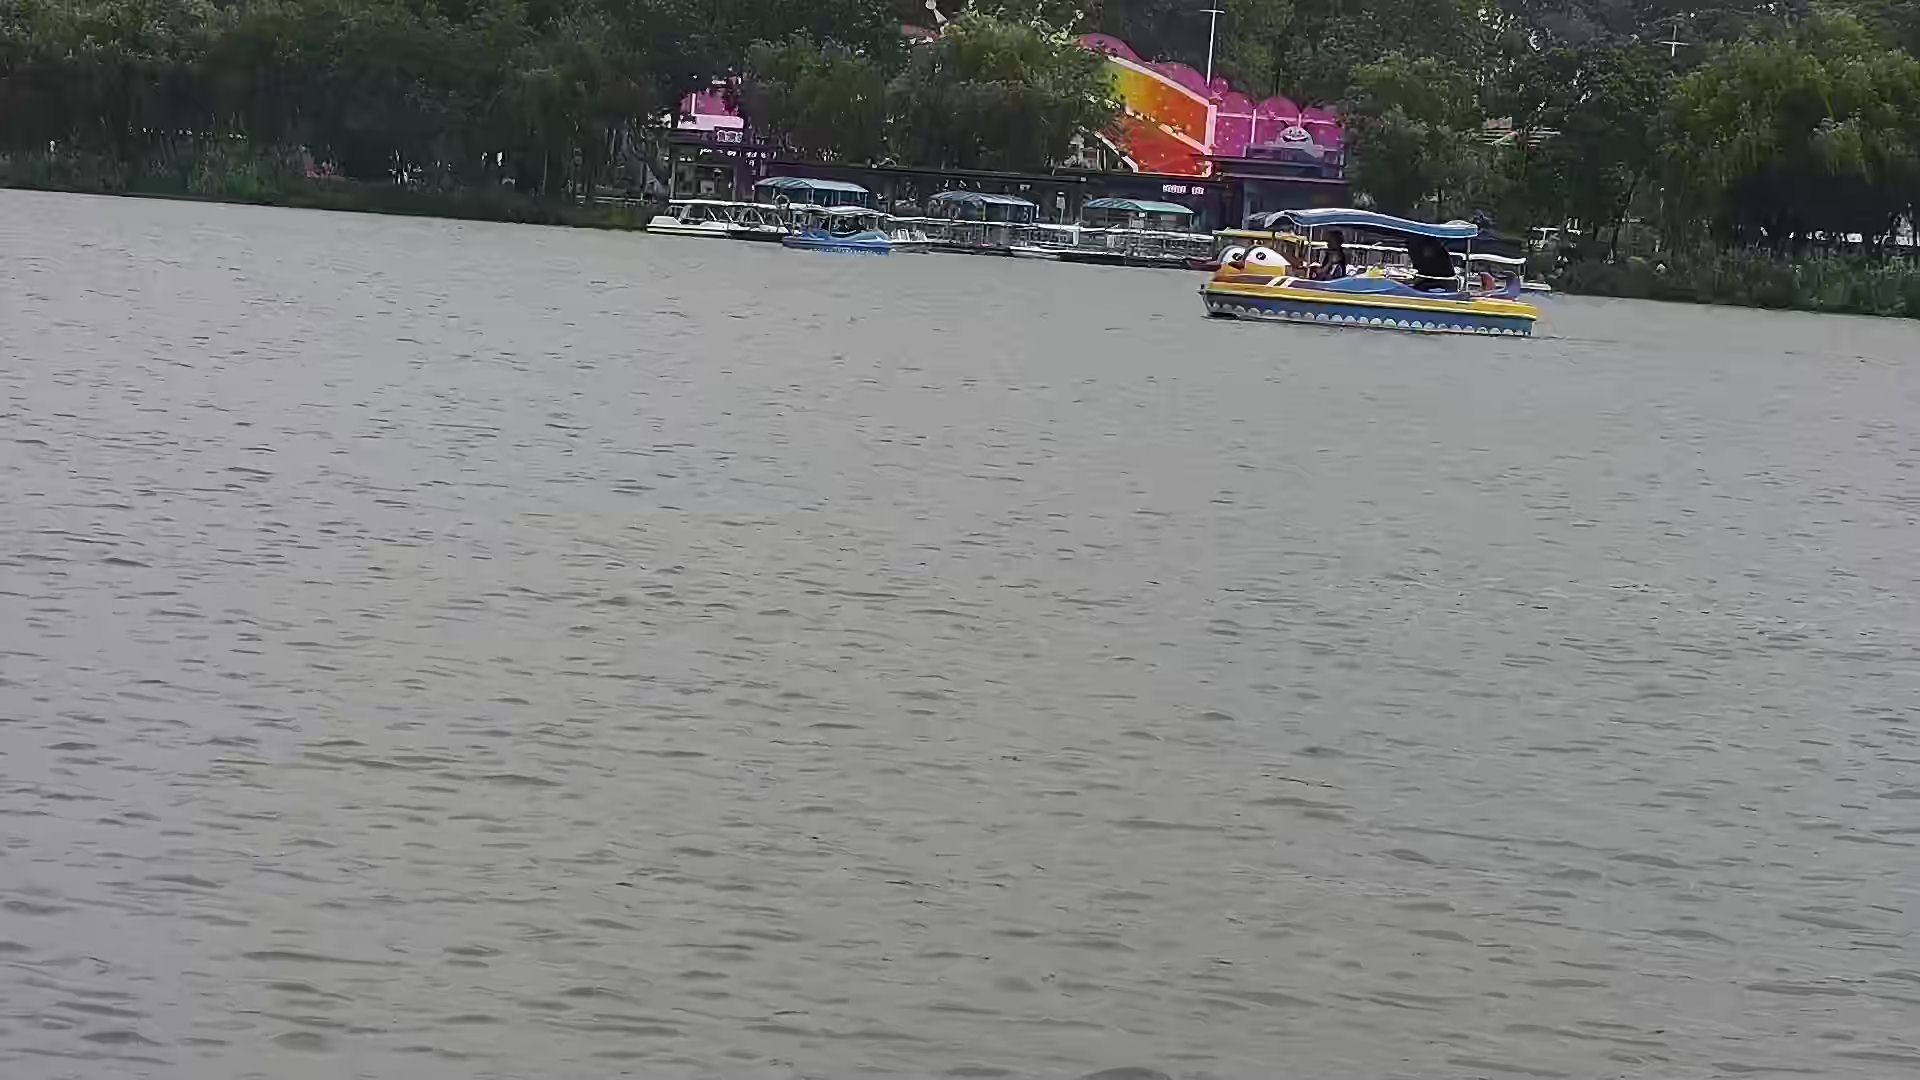boat: (1207, 196, 1543, 342)
harbor: (636, 170, 1218, 281)
